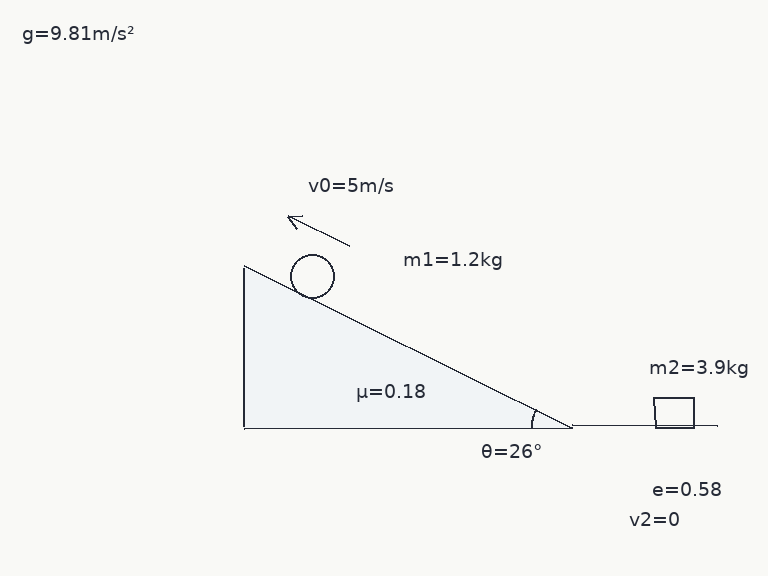ball: (288, 252, 336, 300)
block: (652, 396, 696, 429)
ramp: (242, 265, 574, 429)
